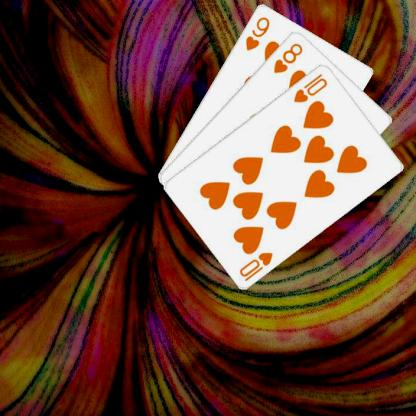10H: (290, 71, 328, 104), (236, 249, 274, 282)
8H: (271, 40, 304, 75)
9H: (242, 14, 272, 52)
